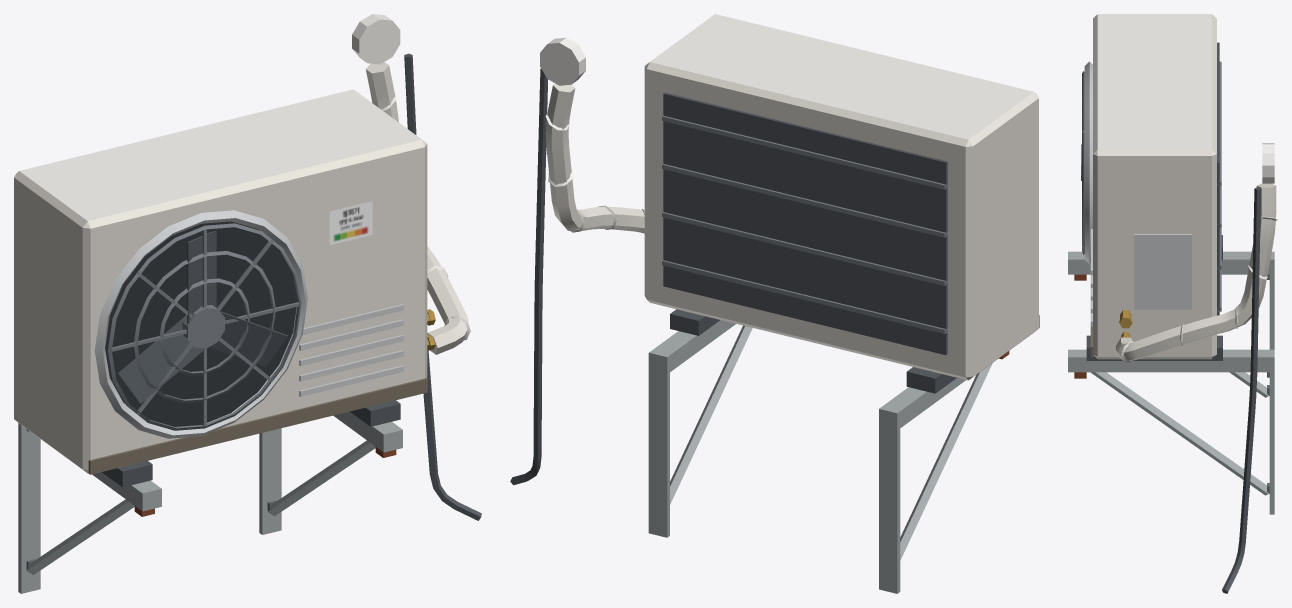
The model's file is SC_Util_AC_Unit_Wall.gltf.
The picture shows the model from 3 angles, left to right: view 1: azimuth 30°, elevation 25°; view 2: azimuth 150°, elevation 25°; view 3: azimuth 270°, elevation 25°; orthographic projection. The views are drawn at different scales.
Visible parts, largest first — view 1: SC_Util_AC_Unit_Wall; view 2: SC_Util_AC_Unit_Wall; view 3: SC_Util_AC_Unit_Wall.
Boxes of the visible parts, x1,y1,x2,y2 form: SC_Util_AC_Unit_Wall: [14, 14, 481, 593]; SC_Util_AC_Unit_Wall: [510, 14, 1039, 593]; SC_Util_AC_Unit_Wall: [1068, 14, 1277, 593].
Size of the model in its own units: 1.1 by 1.12 by 0.5078.
2 materials, 2 textured.
